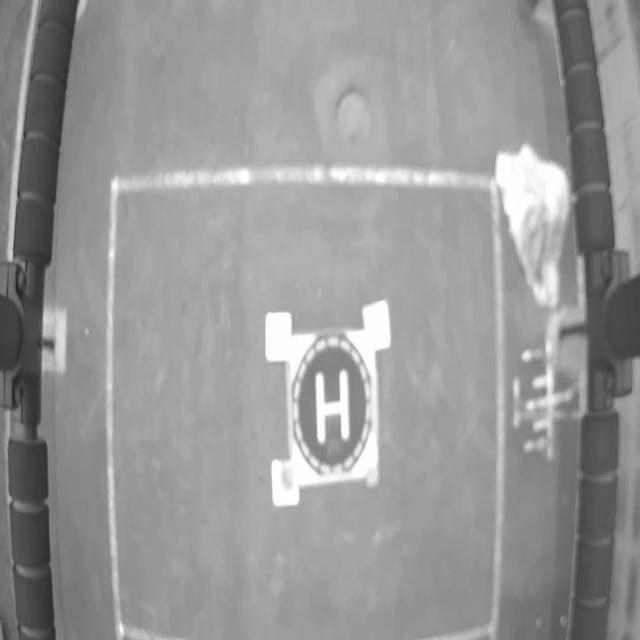Helipad: (315, 370, 349, 444)
